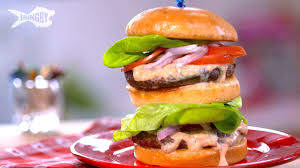hamburger: (109, 6, 256, 167)
